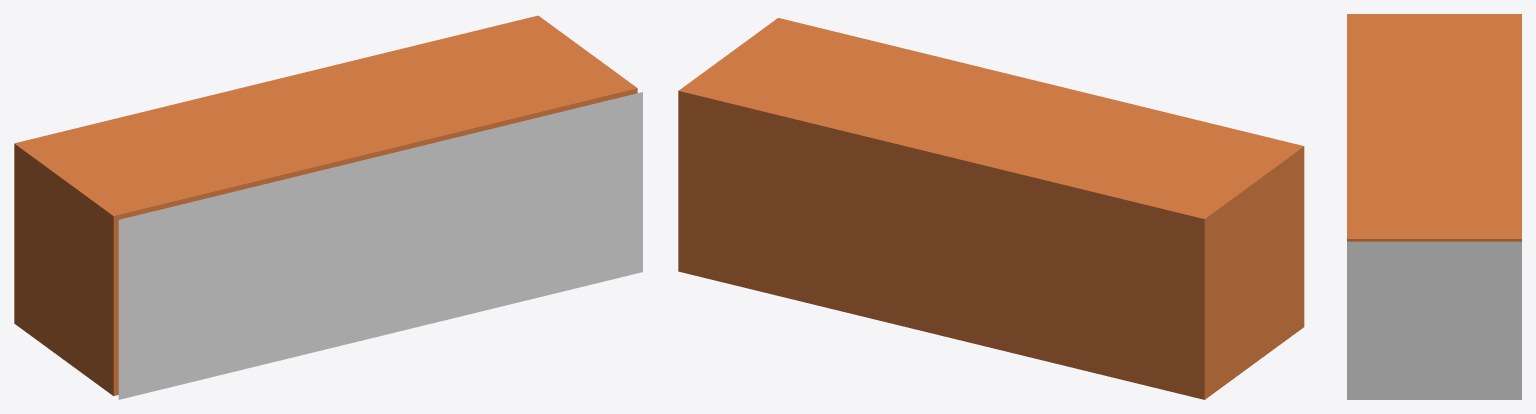
The model's file is glb-merge-test.glb.
3 renders of one model, left to right at view 1: azimuth 30°, elevation 25°; view 2: azimuth 150°, elevation 25°; view 3: azimuth 270°, elevation 25°, orthographic. The views are drawn at different scales.
Parts seen in each view (by area): view 1: __overlay_1, __static_cube; view 2: __static_cube; view 3: __static_cube, __overlay_2.
Part boxes in pixels (x1,y1,x2,y2): __overlay_1: [118, 92, 642, 399]; __static_cube: [14, 15, 637, 395]; __static_cube: [678, 18, 1304, 399]; __static_cube: [1347, 14, 1521, 241]; __overlay_2: [1347, 241, 1521, 399].
Size of the model in its own units: 0.9503 by 0.3084 by 0.3244.
